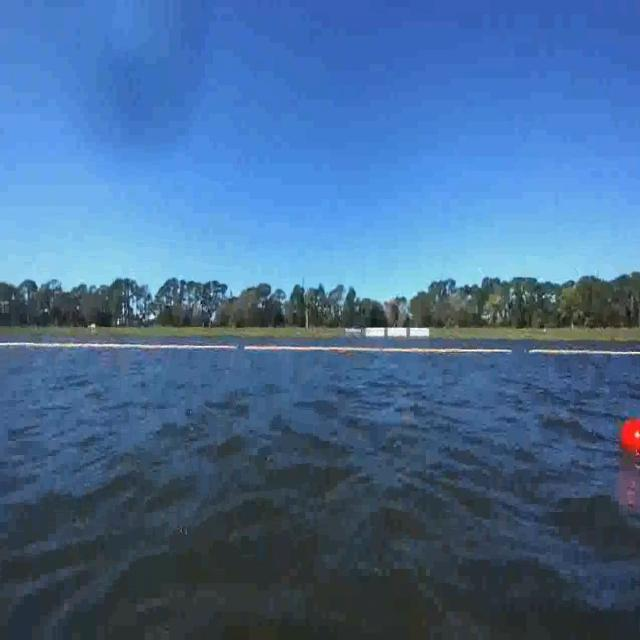red-buoy: (620, 419, 640, 456)
